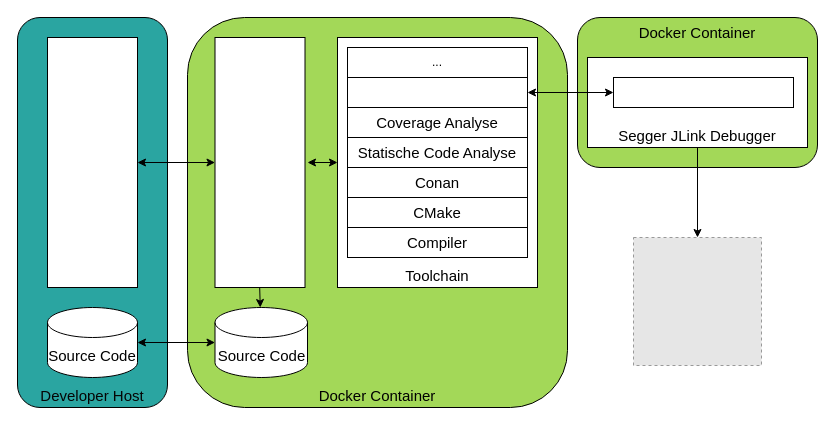
The diagram is 835 pixels wide and 425 high, and some of its shapes have lost their labels. Grey dashed boxes stand in for pictures. The centre of each missing label's shape, as x and y in pixels:
"Debugger(GDB)" belongs at (437,92).
"GDBServer" belongs at (703,92).
"VSCode" belongs at (92,162).
"VSCode Server" belongs at (259,162).
